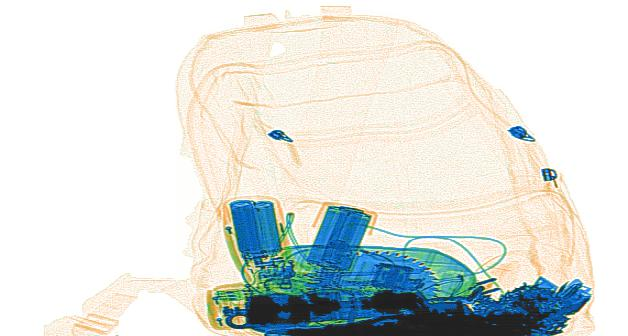battery: (307, 203, 371, 274), (227, 194, 282, 260)
